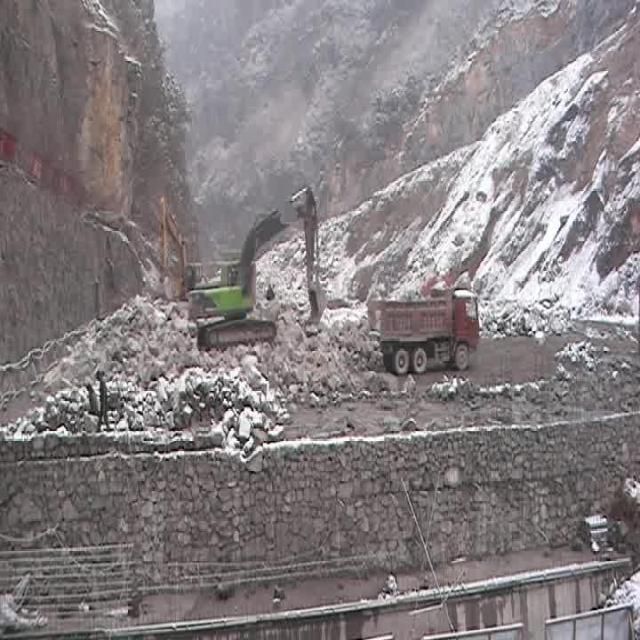excavator: (181, 182, 336, 361)
truck: (360, 270, 490, 381)
